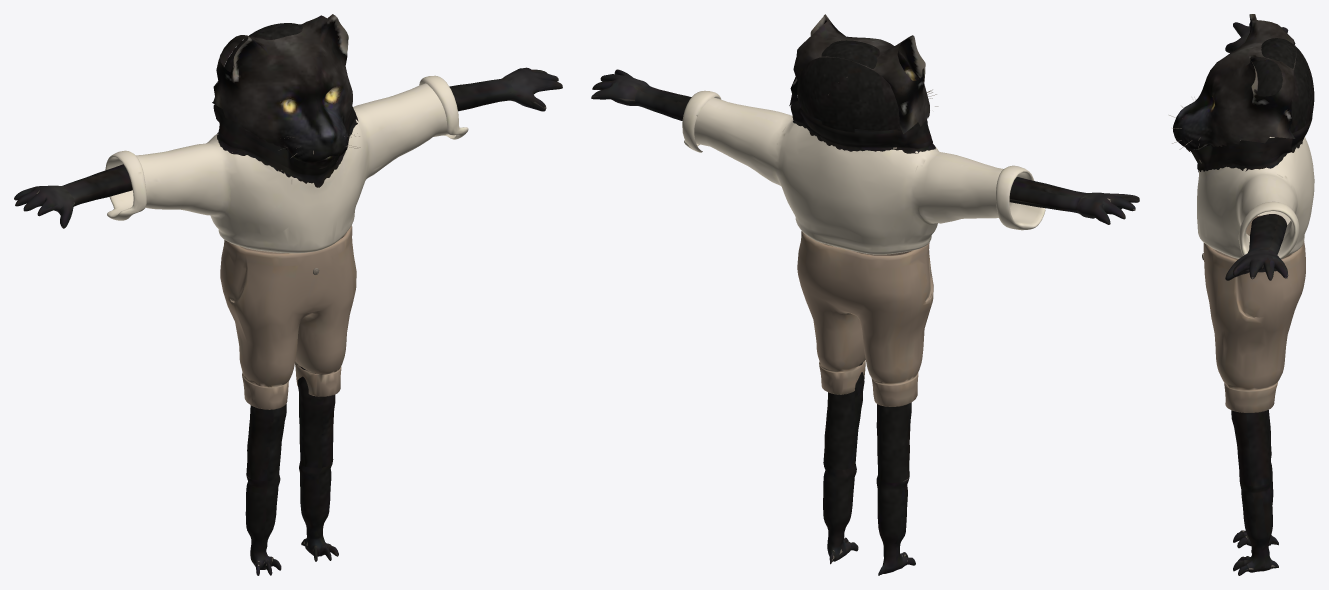
File: cat_character.glb
3 renders of one model, left to right at view 1: azimuth 30°, elevation 25°; view 2: azimuth 150°, elevation 25°; view 3: azimuth 270°, elevation 25°, orthographic. The views are drawn at different scales.
Parts seen in each view (by area): view 1: owl_jumper, owl_trousers, owl_head, owl_feet, owl_hands, owl_ruff; view 2: owl_jumper, owl_trousers, owl_head, owl_feet, owl_hands, owl_ruff; view 3: owl_head, owl_trousers, owl_jumper, owl_feet, owl_hands, owl_ruff.
Boxes of the visible parts, left/top/right/bottom form: owl_jumper: left=105, top=75, right=468, bottom=253; owl_trousers: left=220, top=225, right=356, bottom=409; owl_head: left=212, top=14, right=360, bottom=168; owl_feet: left=245, top=367, right=338, bottom=575; owl_hands: left=14, top=67, right=562, bottom=228; owl_ruff: left=213, top=104, right=358, bottom=187; owl_jumper: left=682, top=90, right=1045, bottom=254; owl_trousers: left=797, top=231, right=933, bottom=406; owl_head: left=789, top=14, right=938, bottom=133; owl_feet: left=823, top=362, right=915, bottom=575; owl_hands: left=591, top=69, right=1139, bottom=224; owl_ruff: left=790, top=98, right=935, bottom=153; owl_head: left=1169, top=14, right=1314, bottom=152; owl_trousers: left=1203, top=215, right=1305, bottom=412; owl_jumper: left=1197, top=137, right=1314, bottom=259; owl_feet: left=1231, top=410, right=1278, bottom=575; owl_hands: left=1225, top=22, right=1288, bottom=280; owl_ruff: left=1191, top=115, right=1312, bottom=172.
Size of the model in its own units: 1.12 by 1.07 by 0.2717.
Materials: 1 (1 with a texture image).
